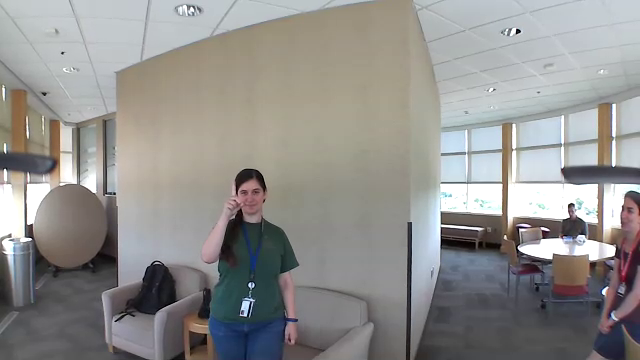up: (215, 182, 246, 221)
